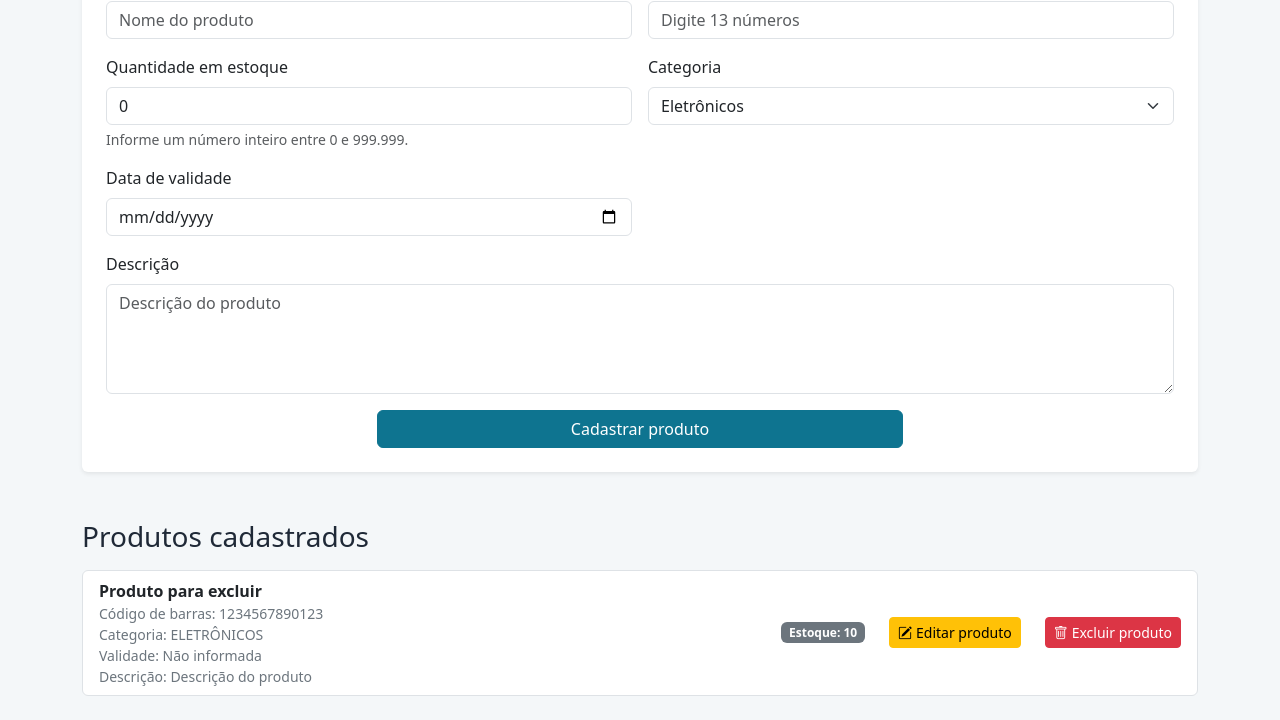
Test case: ProductsPage › exclui um produto e exibe mensagem de sucesso
(page scrolled)
Expected: the text "Produto para excluir" is shown, [99,580,262,602]
Click the button "Excluir produto". click: (1113, 633)
box: [1045,617,1181,648]
(page scrolled)
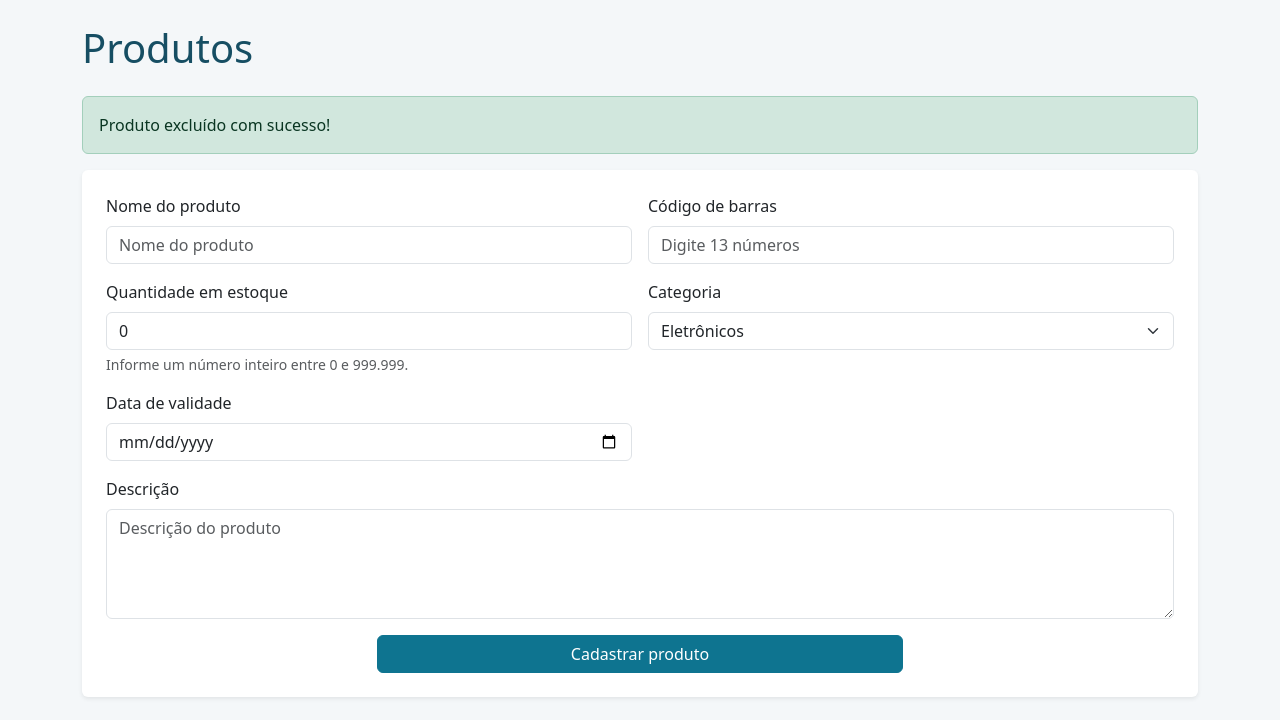
Expected: the message reads "Produto excluído com sucesso!", [99,114,330,136]
